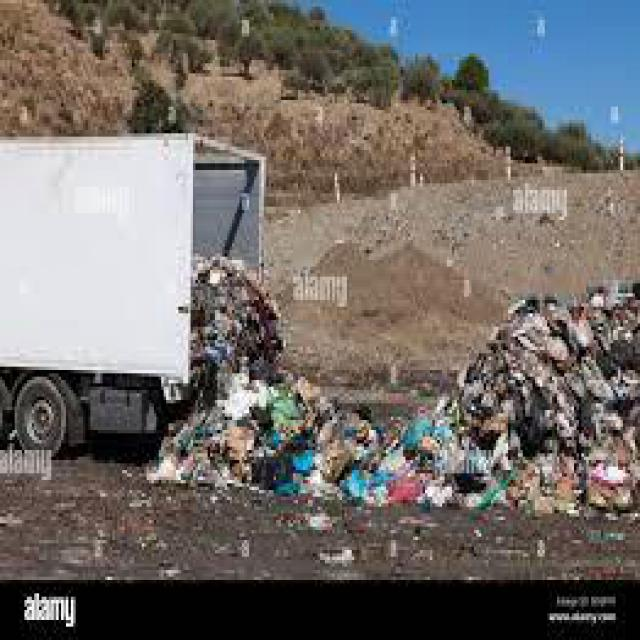garbage: (381, 420, 638, 510), (191, 253, 276, 487), (522, 300, 638, 430), (274, 397, 371, 503), (154, 420, 200, 497), (479, 350, 530, 417)
